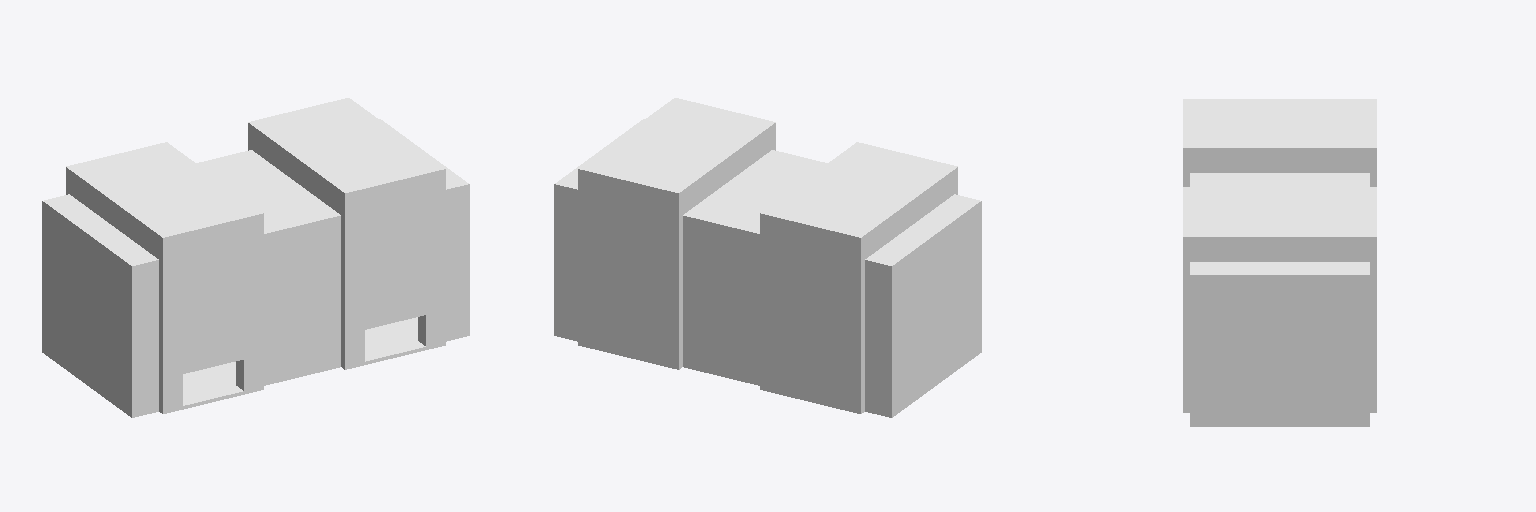
The model's file is wide-tower-2.obj.
3 views of the same model, side by side, from view 1: azimuth 30°, elevation 25°; view 2: azimuth 150°, elevation 25°; view 3: azimuth 270°, elevation 25° (orthographic).
Size of the model in its own units: 100 by 50 by 50.